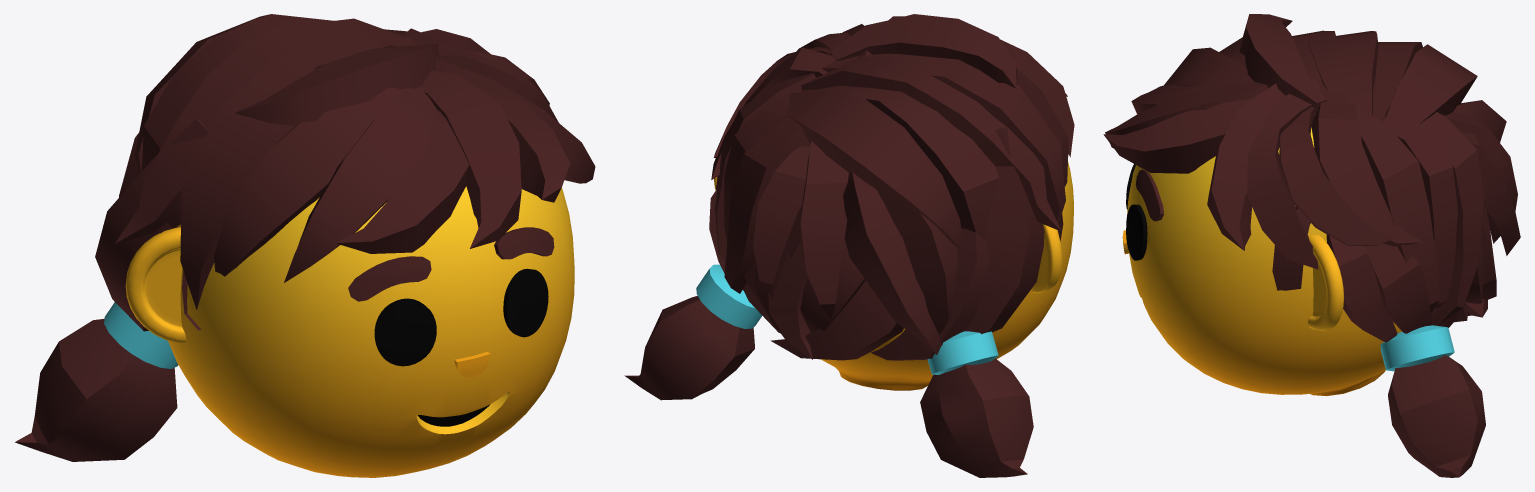
File: girl.glb
The picture shows the model from 3 angles, left to right: view 1: azimuth 30°, elevation 25°; view 2: azimuth 150°, elevation 25°; view 3: azimuth 270°, elevation 25°; orthographic projection. The views are drawn at different scales.
Visible parts, largest first — view 1: Cube.179, Roundcube.005, Cube.197, Circle.292, ears.003, Circle.300, Cube.198, Circle.298; view 2: Cube.179, Cube.197, Roundcube.005, Cube.198, ears.003; view 3: Cube.179, Roundcube.005, Cube.197, ears.003, Cube.198, Circle.292, Circle.300.
Part boxes in pixels (x1,y1,x2,y2): Cube.179: [95, 14, 595, 331]; Roundcube.005: [168, 186, 574, 477]; Cube.197: [15, 318, 177, 461]; Circle.292: [374, 268, 548, 366]; ears.003: [125, 227, 186, 343]; Circle.300: [348, 227, 554, 301]; Cube.198: [104, 302, 178, 368]; Circle.298: [454, 351, 490, 377]; Cube.179: [709, 14, 1074, 360]; Cube.197: [624, 296, 1033, 477]; Roundcube.005: [821, 162, 1073, 390]; Cube.198: [696, 264, 998, 374]; ears.003: [714, 177, 1061, 293]; Cube.179: [1103, 14, 1520, 342]; Roundcube.005: [1127, 127, 1401, 396]; Cube.197: [1388, 312, 1485, 477]; ears.003: [1307, 234, 1343, 331]; Cube.198: [1380, 325, 1454, 371]; Circle.292: [1126, 164, 1147, 260]; Circle.300: [1135, 169, 1163, 221].
Size of the model in its own units: 2.05 by 1.71 by 1.82.
2 materials, 2 textured.
